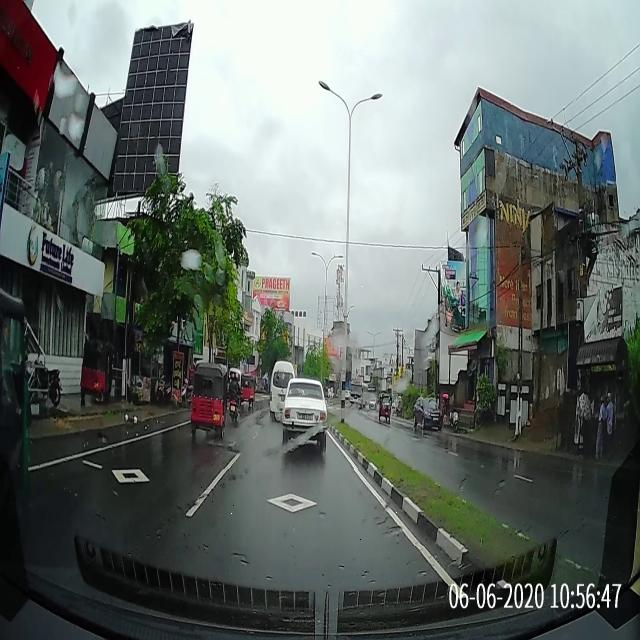diamond: (178, 469, 423, 546)
